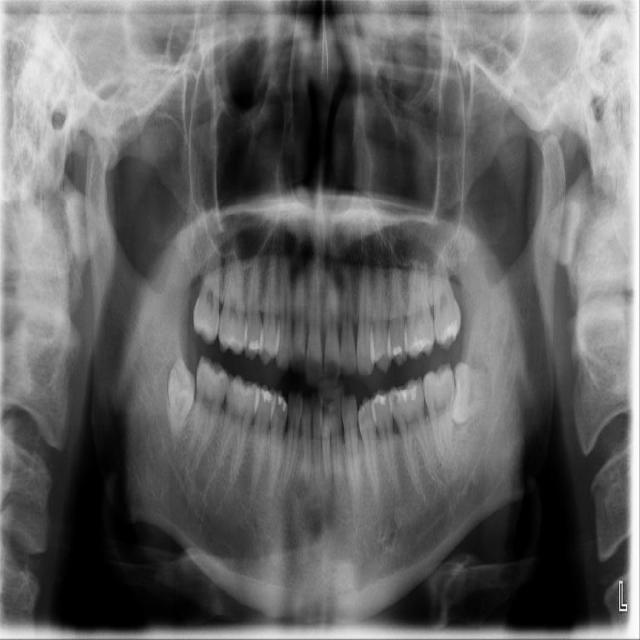Filling: (391, 385, 418, 401), (273, 394, 291, 414), (374, 394, 391, 407), (260, 389, 273, 405)
impacted tooth: (160, 357, 195, 456), (452, 361, 494, 424)
